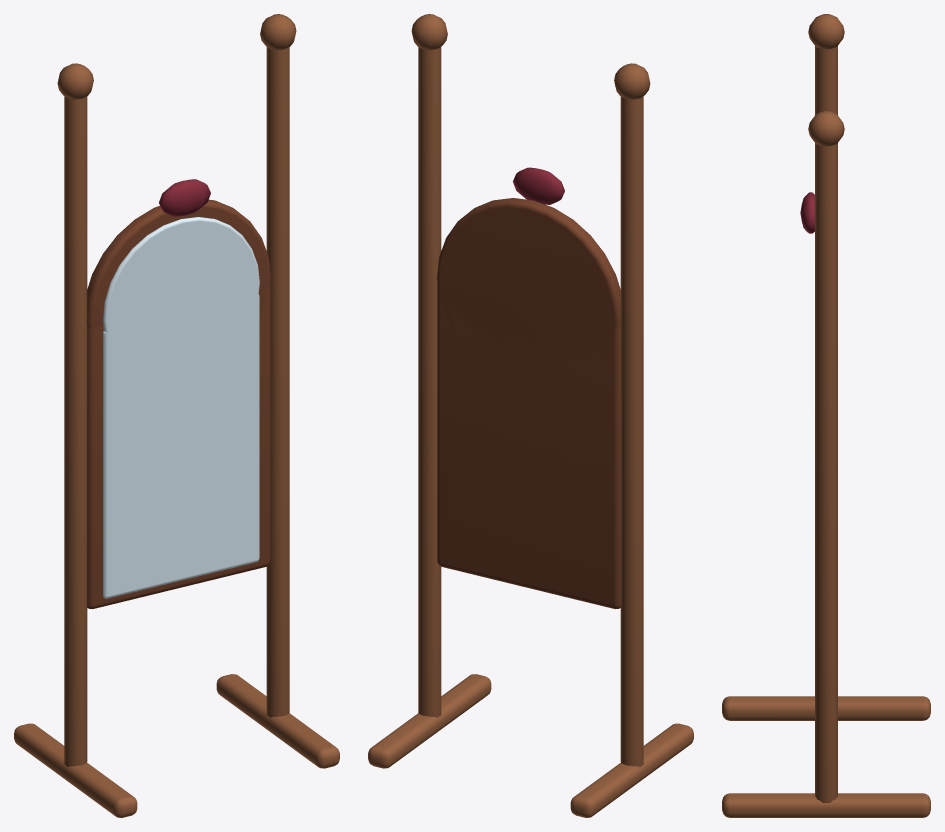
File: standing-mirror.glb
3 views of the same model, side by side, from view 1: azimuth 30°, elevation 25°; view 2: azimuth 150°, elevation 25°; view 3: azimuth 270°, elevation 25° (orthographic).
Parts seen in each view (by area): view 1: standing-mirror; view 2: standing-mirror; view 3: standing-mirror.
Part boxes in pixels (x1,y1,x2,y2): standing-mirror: (14, 14, 339, 817); standing-mirror: (368, 14, 693, 817); standing-mirror: (722, 14, 930, 817).
Bounding box in the file's own units: 0.5066 × 1.49 × 0.4.
